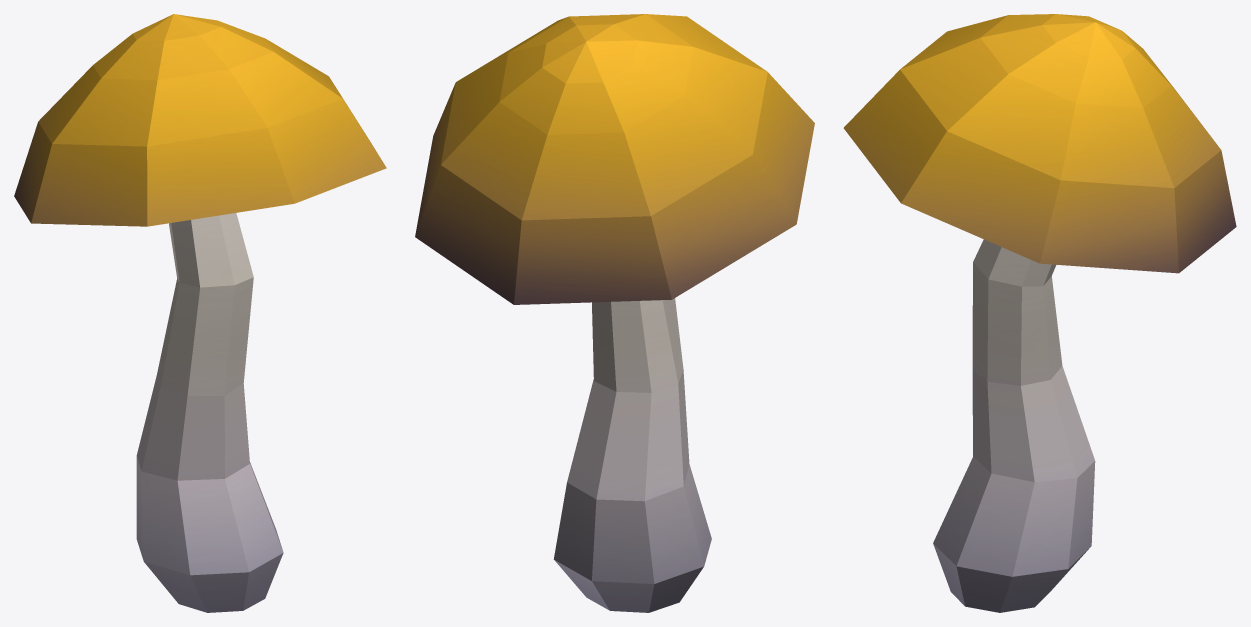
File: Mushroom_Yellow.fbx
3 renders of one model, left to right at view 1: azimuth 30°, elevation 25°; view 2: azimuth 150°, elevation 25°; view 3: azimuth 270°, elevation 25°, orthographic. The views are drawn at different scales.
Visible parts, largest first — view 1: Mushroom 1; view 2: Mushroom 1; view 3: Mushroom 1.
Boxes of the visible parts, x1,y1,x2,y2 form: Mushroom 1: [14, 14, 386, 612]; Mushroom 1: [415, 14, 814, 612]; Mushroom 1: [843, 14, 1236, 612].
Size of the model in its own units: 123 by 190 by 119.
